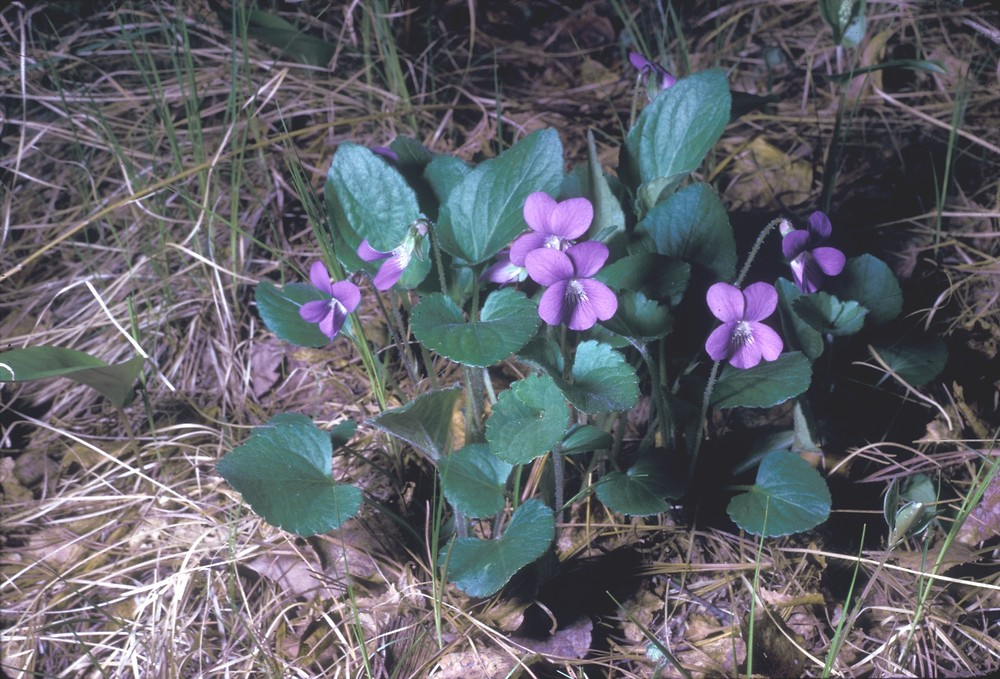violet: (697, 282, 786, 369), (528, 245, 617, 326), (773, 216, 858, 287), (510, 187, 590, 261), (307, 257, 378, 337)
